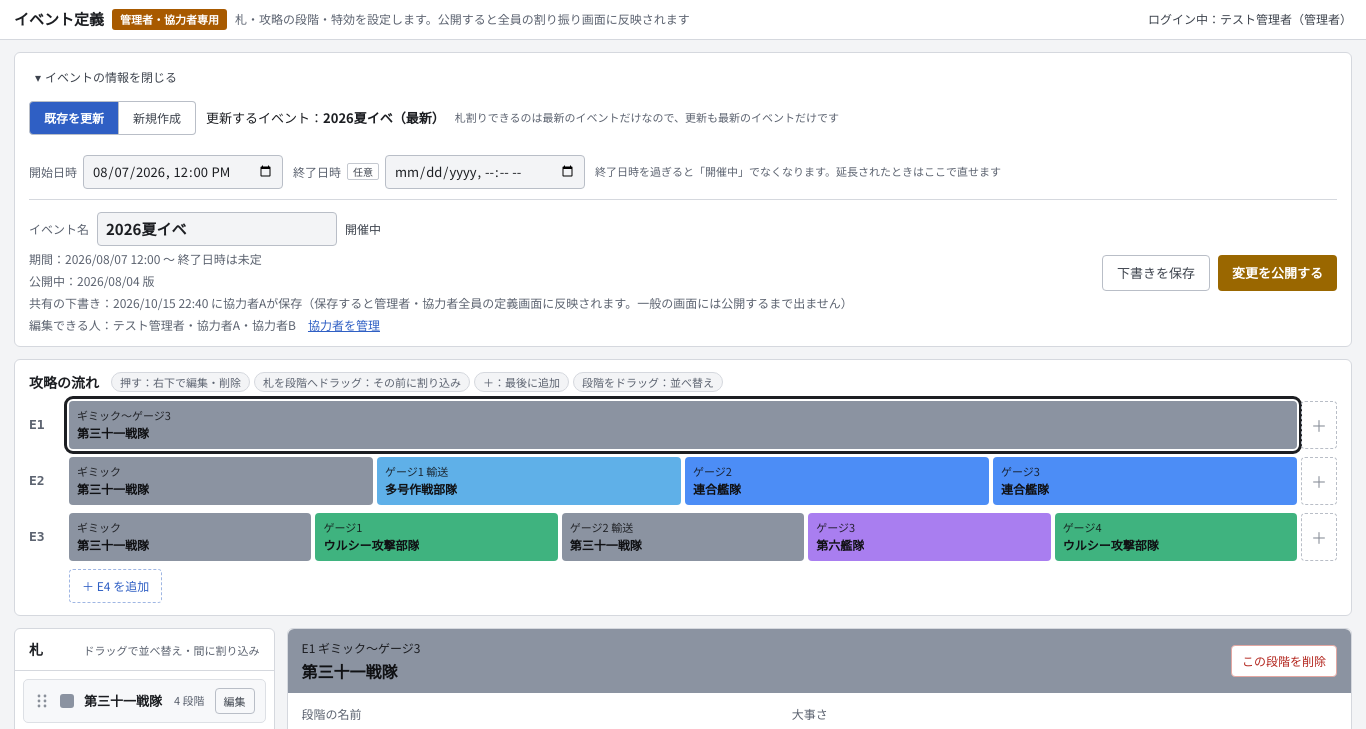
イベント定義の画面（PlanEditor）：公開の前の確認（UI／UX の指摘 中8） › 確認のウィンドウ › 「公開する」を押すと確認を閉じ、保存していない変更を下書きに保存してから、返った版（8）を公開する
Expected: the element "攻略の流れ" is shown, [14,358,1352,616]
Click the button "ゲージ3 連合艦隊".
click(1020, 470)  # box [993,456,1297,504]
(page scrolled)
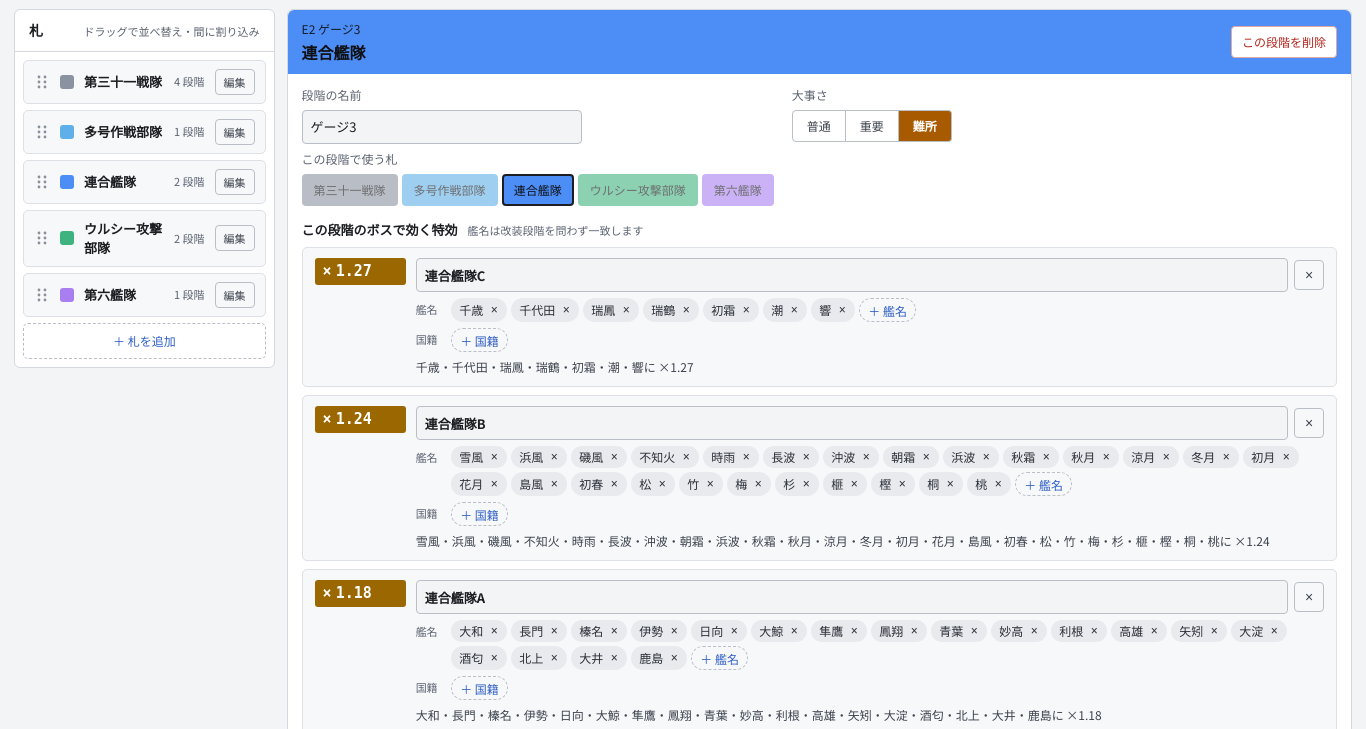
Click the button "重要".
click(872, 126)  # box [846,110,899,142]
(page scrolled)
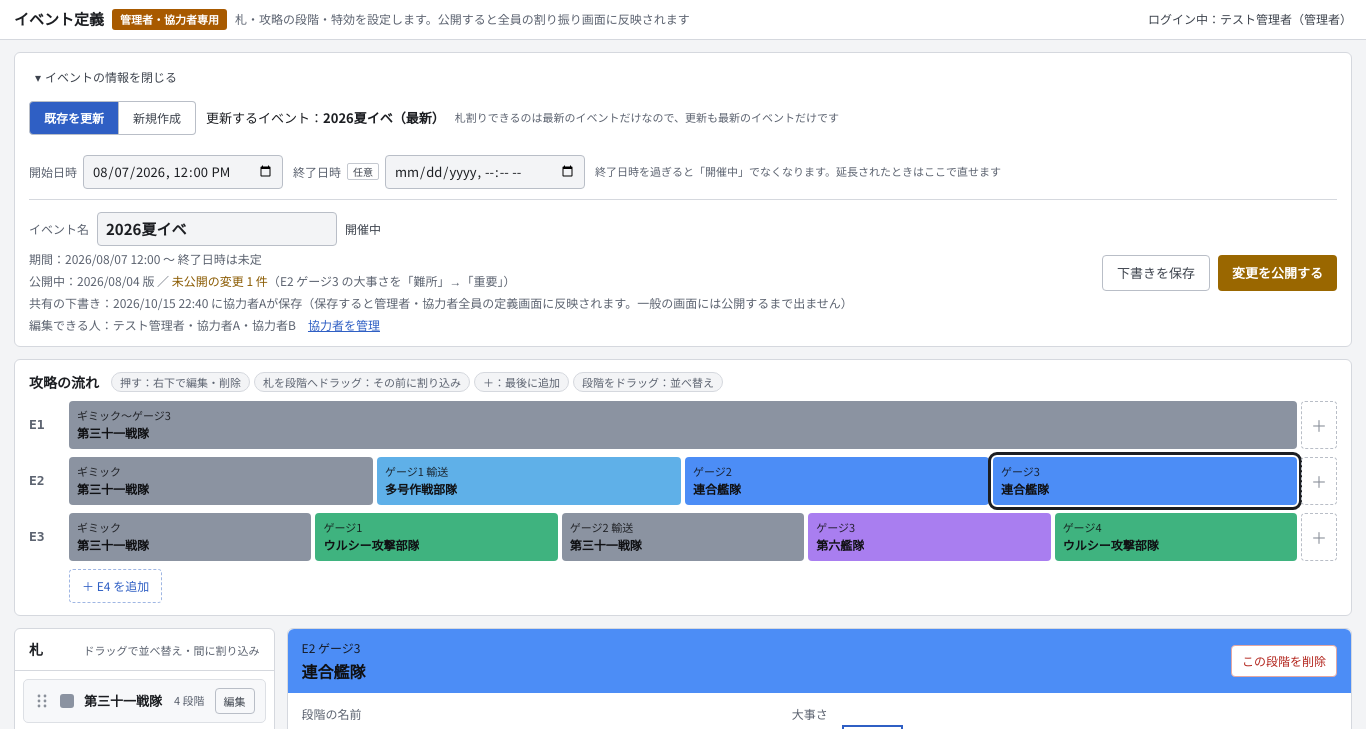
Click the button "変更を公開する".
click(1278, 272)  # box [1218,254,1337,290]
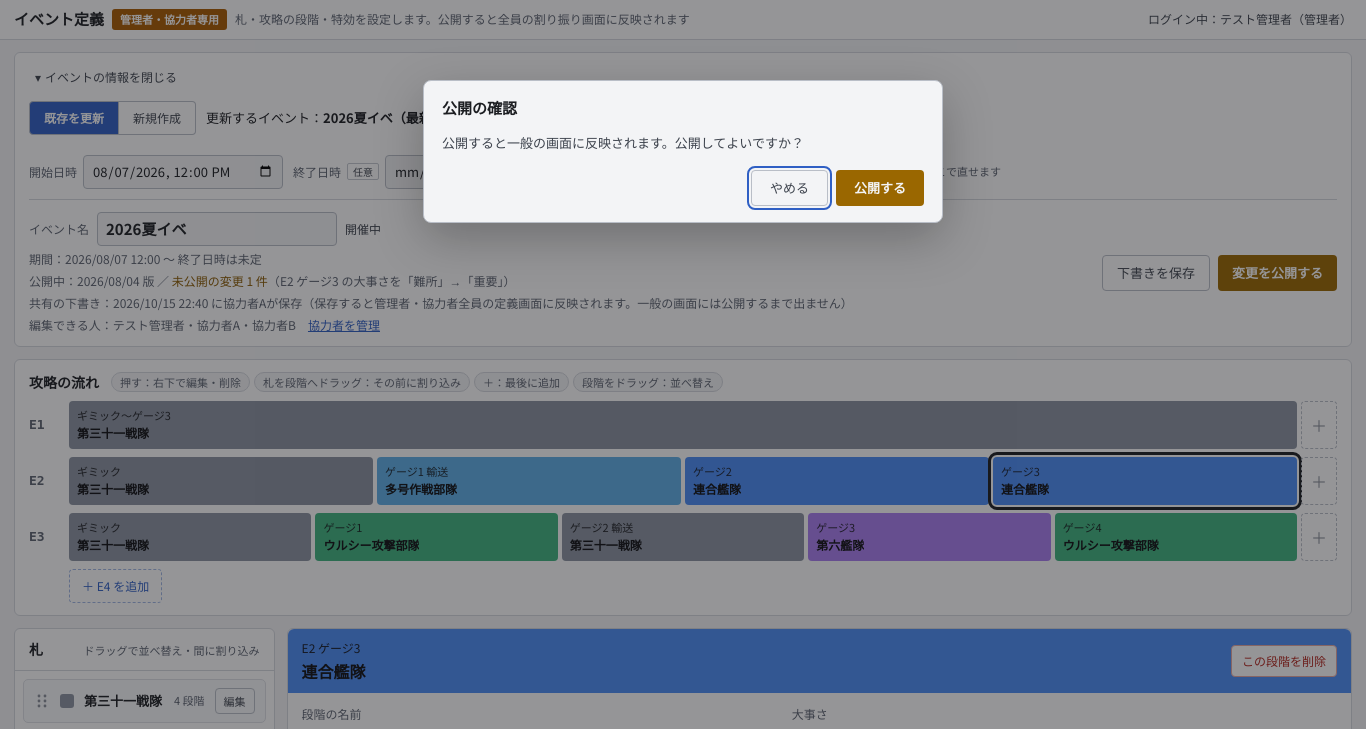
Click the button "公開する".
click(880, 188)  # box [836,170,924,206]
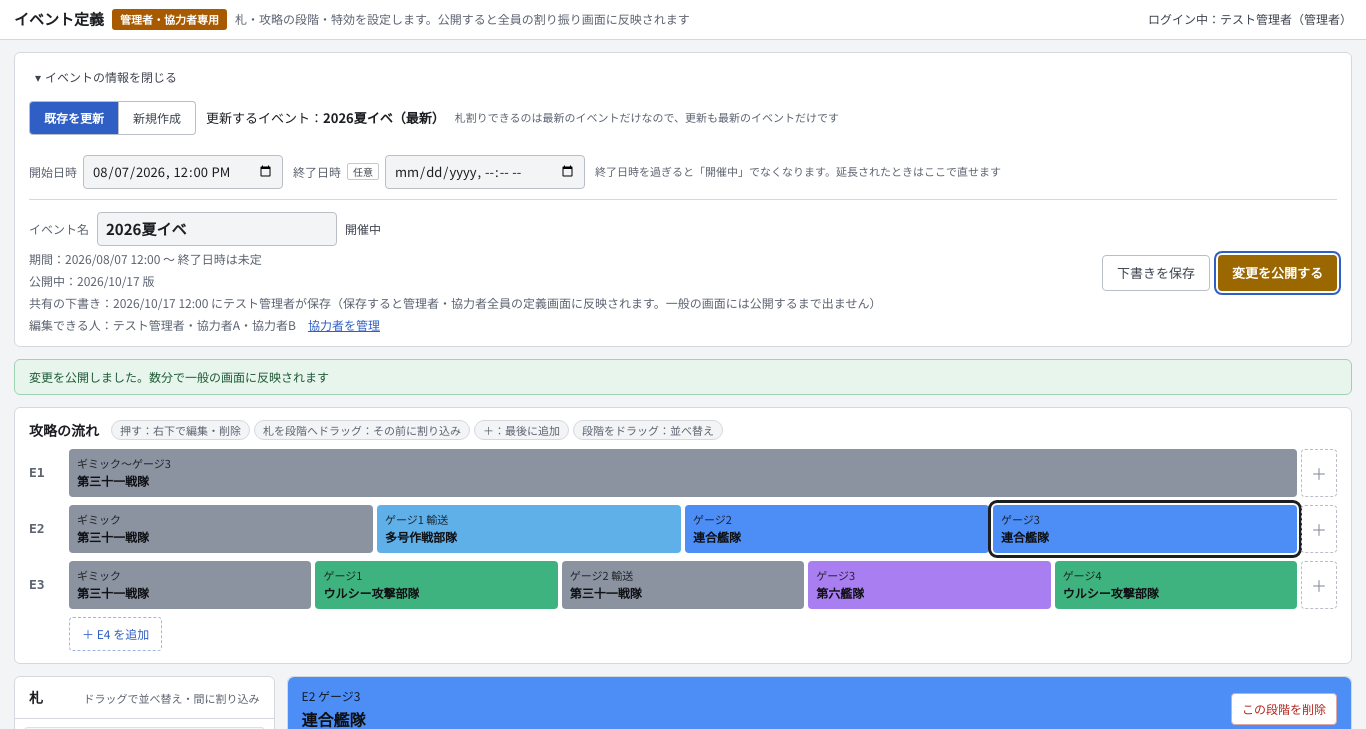
Expected: the heading "公開の確認" is gone
